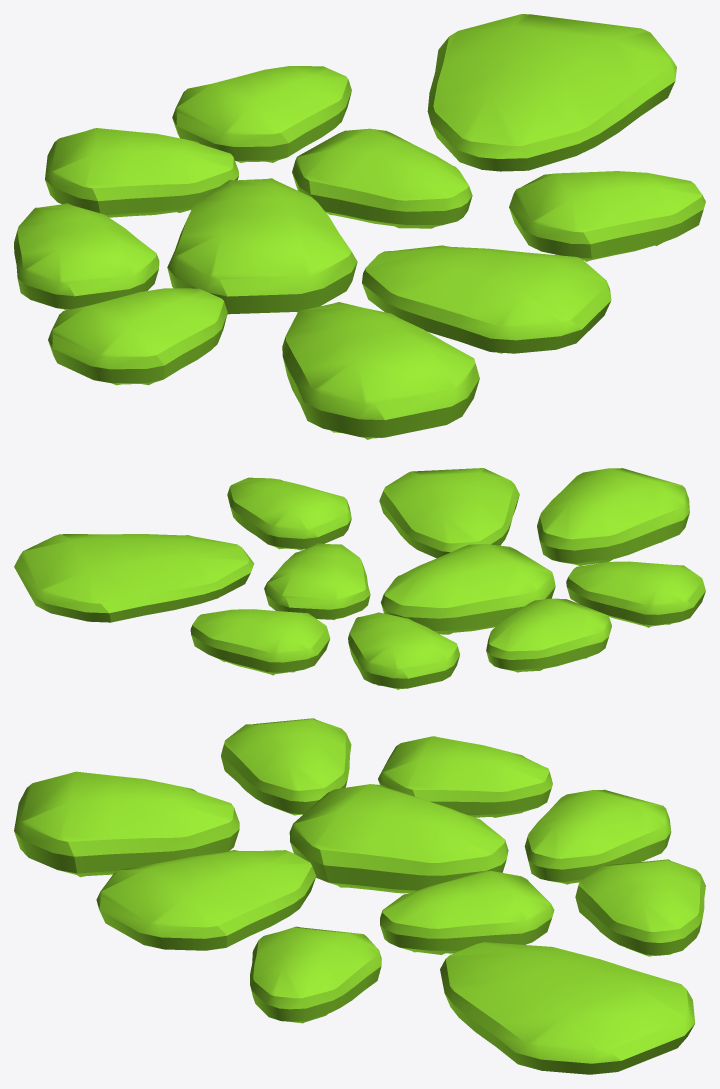
The model's file is Green3_seed.fbx.
3 renders of one model, top to bottom at view 1: azimuth 30°, elevation 25°; view 2: azimuth 150°, elevation 25°; view 3: azimuth 270°, elevation 25°, orthographic. The views are drawn at different scales.
Visible parts, largest first — view 1: seed1.078, seed1.074, seed1.079, seed1.076, seed1.077, seed1.075, seed1.072, seed1.080, seed1.073, seed1.081; view 2: seed1.078, seed1.079, seed1.076, seed1.074, seed1.073, seed1.080, seed1.081, seed1.077, seed1.075, seed1.072; view 3: seed1.078, seed1.079, seed1.076, seed1.074, seed1.072, seed1.081, seed1.077, seed1.075, seed1.073, seed1.080.
Boxes of the visible parts, <box> form: seed1.078: <box>427,14,676,171</box>; seed1.074: <box>362,245,611,353</box>; seed1.079: <box>282,302,479,439</box>; seed1.076: <box>167,178,357,314</box>; seed1.077: <box>509,171,705,261</box>; seed1.075: <box>45,128,238,217</box>; seed1.072: <box>292,128,472,228</box>; seed1.080: <box>48,288,227,385</box>; seed1.073: <box>172,66,351,162</box>; seed1.081: <box>14,203,159,310</box>; seed1.078: <box>14,534,254,622</box>; seed1.079: <box>537,468,689,565</box>; seed1.076: <box>380,544,555,634</box>; seed1.074: <box>379,468,519,558</box>; seed1.073: <box>190,609,330,675</box>; seed1.080: <box>566,561,705,627</box>; seed1.081: <box>486,598,611,672</box>; seed1.077: <box>227,477,351,550</box>; seed1.075: <box>348,612,460,689</box>; seed1.072: <box>264,543,370,619</box>; seed1.078: <box>440,942,695,1074</box>; seed1.079: <box>14,771,239,877</box>; seed1.076: <box>289,784,508,893</box>; seed1.074: <box>96,850,316,950</box>; seed1.072: <box>380,871,554,954</box>; seed1.081: <box>378,736,552,817</box>; seed1.077: <box>250,926,381,1023</box>; seed1.075: <box>524,789,671,884</box>; seed1.073: <box>575,859,705,956</box>; seed1.080: <box>221,718,351,815</box>.
Bounding box in the file's own units: 112 × 11.24 × 97.57.
